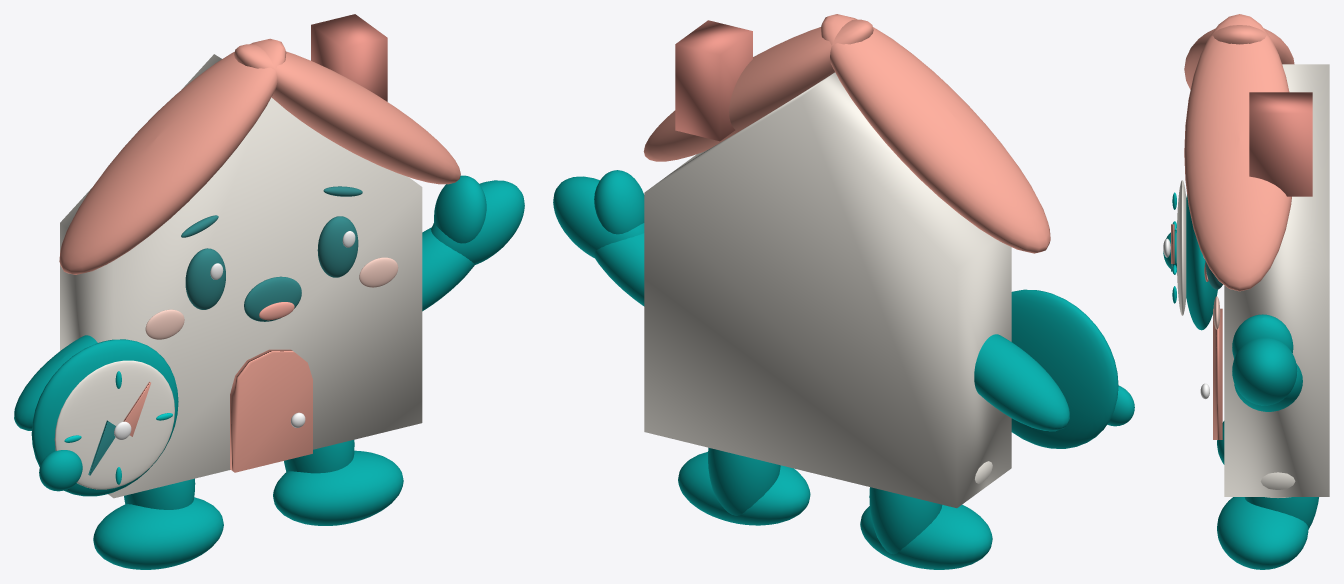
File: hdb-compass-home-guide.glb
3 views of the same model, side by side, from view 1: azimuth 30°, elevation 25°; view 2: azimuth 150°, elevation 25°; view 3: azimuth 270°, elevation 25° (orthographic). The views are drawn at different scales.
Visible parts, largest first — view 1: Home body, Roof left, Roof right, Compass face, Door, Left foot, Right foot, Compass rim, Chimney, Waving hand, Thumb, Right arm (+9 smaller); view 2: Home body, Roof left, Compass rim, Roof right, Chimney, Left arm, Left foot, Right foot, Waving hand, Right leg, Left leg, Thumb (+1 smaller); view 3: Home body, Roof right, Chimney, Right foot, Waving hand, Compass rim, Roof left, Thumb, Compass face, Door, Right leg, Right arm (+1 smaller).
Part boxes in pixels (bbox=[...]): Home body: bbox=[60, 54, 422, 498]; Roof left: bbox=[59, 38, 286, 274]; Roof right: bbox=[234, 44, 460, 184]; Compass face: bbox=[54, 360, 174, 489]; Door: bbox=[230, 349, 312, 472]; Left foot: bbox=[93, 497, 223, 569]; Right foot: bbox=[273, 450, 403, 525]; Compass rim: bbox=[31, 339, 178, 496]; Chimney: bbox=[311, 14, 387, 101]; Waving hand: bbox=[431, 180, 524, 264]; Thumb: bbox=[434, 175, 486, 243]; Right arm: bbox=[422, 227, 474, 311]; Home body: bbox=[644, 72, 1011, 508]; Roof left: bbox=[821, 14, 1050, 253]; Compass rim: bbox=[1011, 289, 1118, 448]; Roof right: bbox=[643, 19, 873, 161]; Chimney: bbox=[675, 20, 752, 141]; Left arm: bbox=[974, 334, 1069, 431]; Left foot: bbox=[860, 504, 992, 569]; Right foot: bbox=[678, 452, 810, 525]; Waving hand: bbox=[553, 176, 644, 257]; Right leg: bbox=[708, 447, 780, 515]; Left leg: bbox=[869, 487, 942, 554]; Thumb: bbox=[594, 170, 644, 234]; Home body: bbox=[1224, 64, 1329, 496]; Roof right: bbox=[1184, 14, 1291, 291]; Chimney: bbox=[1249, 92, 1312, 196]; Right foot: bbox=[1217, 497, 1308, 569]; Waving hand: bbox=[1232, 338, 1297, 405]; Compass rim: bbox=[1186, 194, 1217, 330]; Roof left: bbox=[1184, 25, 1294, 89]; Thumb: bbox=[1232, 314, 1293, 358]; Compass face: bbox=[1176, 180, 1186, 315]; Door: bbox=[1213, 308, 1222, 439]; Right leg: bbox=[1244, 497, 1318, 528]; Right arm: bbox=[1234, 363, 1302, 411].
Bounding box in the file's own units: 3.1 × 2.84 × 0.87.
